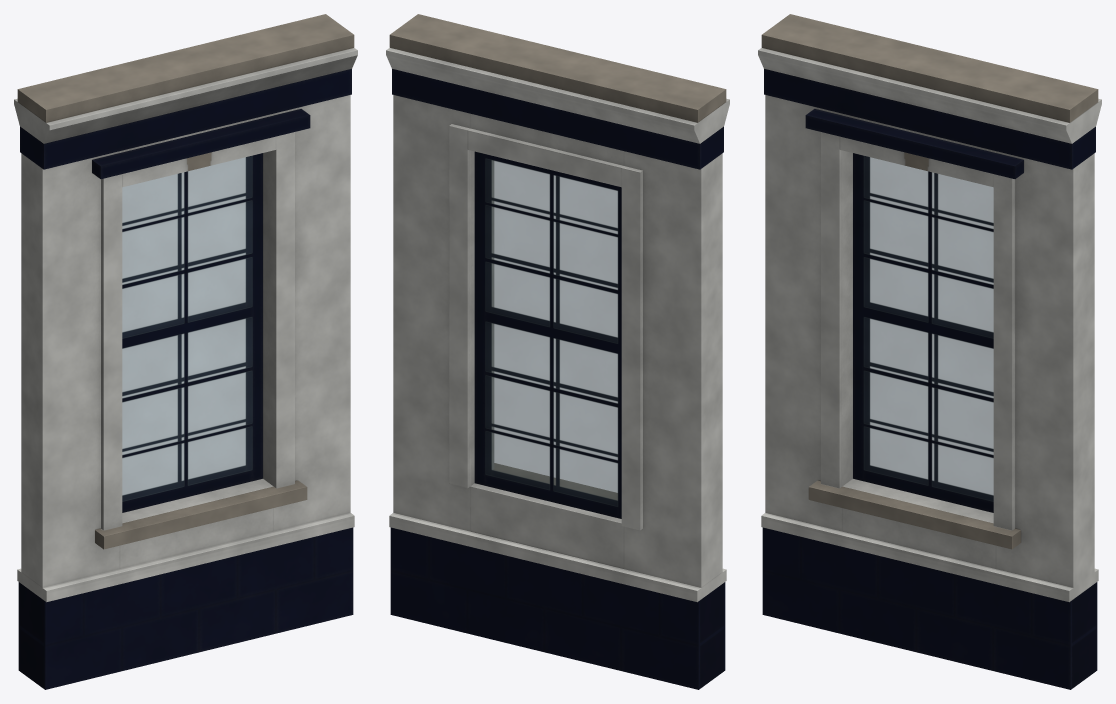
The model's file is charter_window.glb.
3 renders of one model, left to right at view 1: azimuth 30°, elevation 25°; view 2: azimuth 150°, elevation 25°; view 3: azimuth 330°, elevation 25°, orthographic.
Visible parts, largest first — view 1: charter_window; view 2: charter_window; view 3: charter_window.
Part boxes in pixels (x1=…): charter_window: x1=14, y1=14, x2=357, y2=689; charter_window: x1=386, y1=14, x2=729, y2=689; charter_window: x1=758, y1=14, x2=1101, y2=689.
Size of the model in its own units: 2 by 3.6 by 0.42.
Materials: 1 (1 with a texture image).
